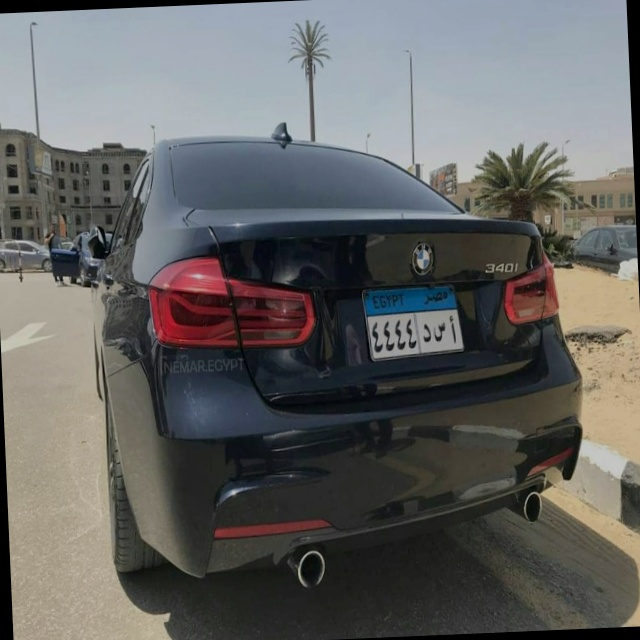License Plate: (356, 276, 468, 367)
